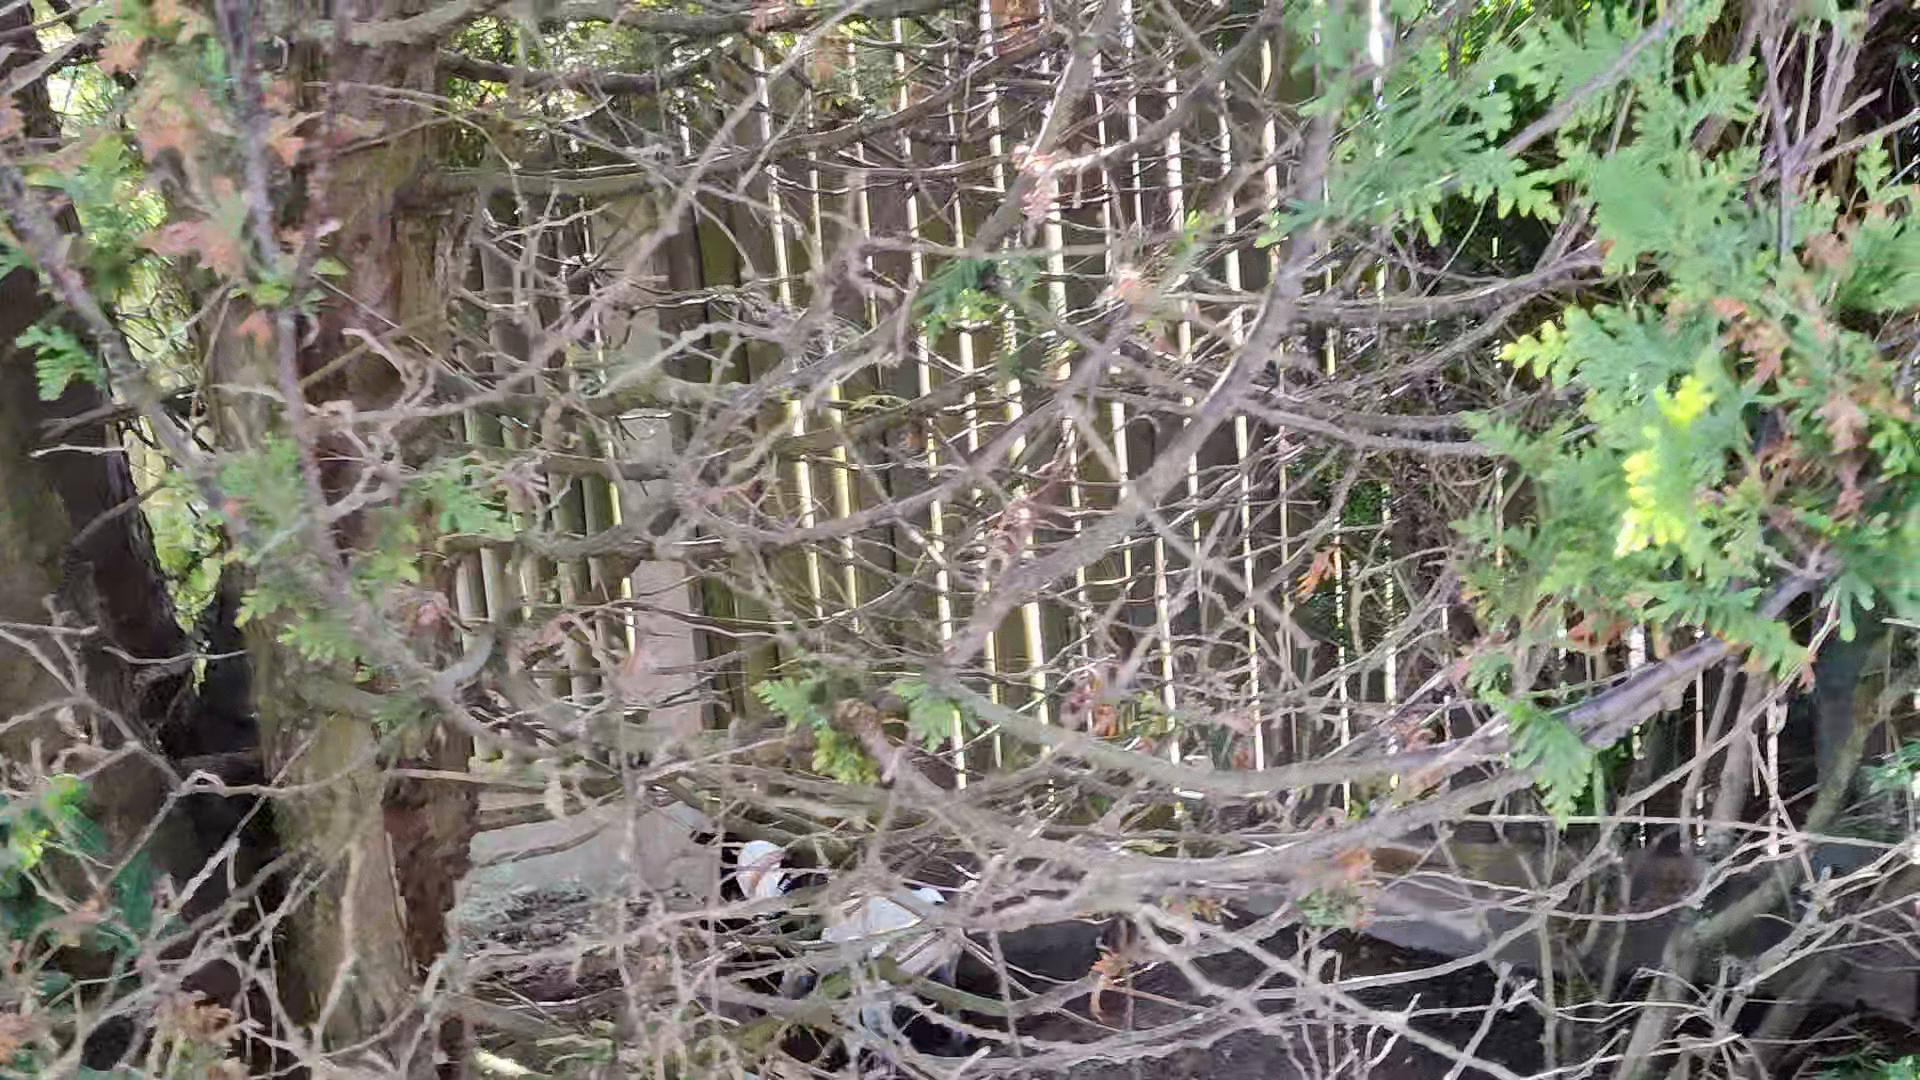Dog: (686, 799, 984, 1069)
